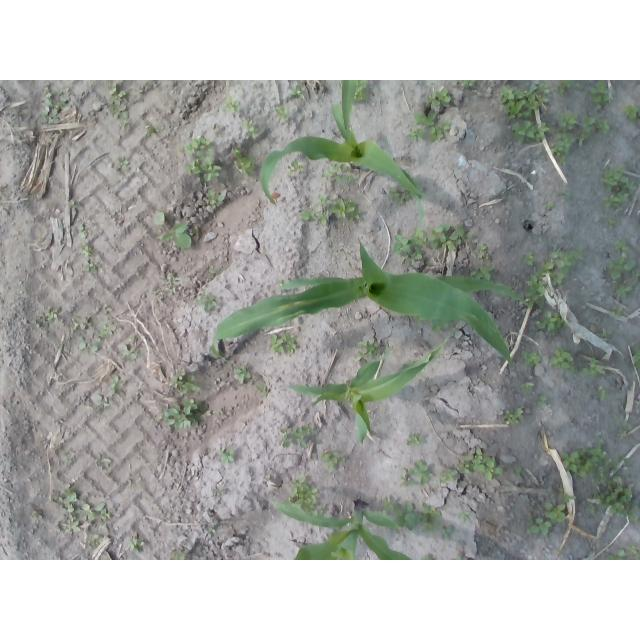Maize: (208, 238, 529, 374), (258, 81, 429, 219), (284, 336, 447, 446), (267, 496, 417, 561)
Weeds: (525, 248, 583, 308), (54, 486, 112, 535), (560, 442, 621, 486), (588, 474, 640, 522), (300, 194, 360, 227), (500, 84, 552, 121), (156, 396, 209, 430), (184, 134, 221, 182), (600, 163, 636, 209), (548, 111, 578, 165), (405, 109, 451, 143), (458, 448, 503, 481), (288, 476, 324, 517), (380, 497, 422, 531), (427, 221, 473, 251), (526, 502, 566, 536), (155, 222, 197, 250), (393, 227, 427, 261), (39, 87, 69, 124), (387, 177, 425, 206), (579, 114, 610, 146), (510, 120, 549, 145), (534, 312, 570, 337), (106, 83, 130, 120), (398, 461, 432, 487), (607, 251, 637, 279), (321, 161, 356, 184), (168, 370, 200, 395), (548, 346, 576, 373), (280, 426, 312, 449), (232, 146, 256, 176), (422, 502, 442, 534), (268, 332, 296, 354), (156, 272, 181, 296), (590, 80, 611, 108), (604, 544, 640, 560), (581, 357, 606, 379), (322, 451, 346, 473), (425, 86, 451, 106), (470, 262, 495, 282), (195, 290, 217, 312), (203, 190, 226, 211), (356, 340, 379, 361), (551, 487, 577, 504), (520, 348, 542, 367), (354, 81, 371, 104), (620, 103, 640, 122), (504, 407, 524, 425), (436, 465, 456, 483), (220, 97, 241, 114), (109, 374, 125, 396), (78, 338, 103, 352), (242, 118, 258, 139), (286, 159, 304, 177), (233, 365, 252, 382), (615, 282, 633, 299), (474, 244, 491, 261), (145, 121, 165, 135), (555, 80, 575, 94), (594, 385, 611, 401), (218, 448, 235, 464), (618, 420, 634, 437), (96, 394, 111, 412), (289, 85, 307, 100), (96, 324, 116, 337), (340, 248, 353, 268), (593, 326, 614, 338), (274, 105, 290, 120), (127, 538, 143, 553), (123, 349, 141, 362), (83, 262, 101, 275), (630, 347, 640, 370), (116, 156, 131, 171), (406, 434, 422, 447), (521, 251, 535, 265), (153, 210, 165, 226), (442, 525, 454, 541), (520, 381, 534, 394), (44, 308, 59, 320), (255, 381, 270, 393), (169, 549, 185, 560), (78, 245, 92, 257), (613, 239, 627, 251), (458, 510, 471, 522), (620, 452, 633, 464), (605, 217, 619, 228), (609, 306, 624, 316), (510, 465, 522, 477), (71, 317, 80, 332), (78, 225, 87, 240), (457, 81, 476, 88), (542, 201, 554, 212), (537, 394, 548, 406), (558, 187, 571, 197), (277, 279, 290, 289), (90, 533, 102, 543), (103, 305, 114, 315), (102, 456, 114, 465), (631, 270, 640, 281), (420, 556, 440, 560), (130, 334, 138, 343), (207, 527, 217, 533), (36, 513, 44, 520), (210, 267, 219, 273), (454, 556, 464, 561), (213, 489, 219, 493)
